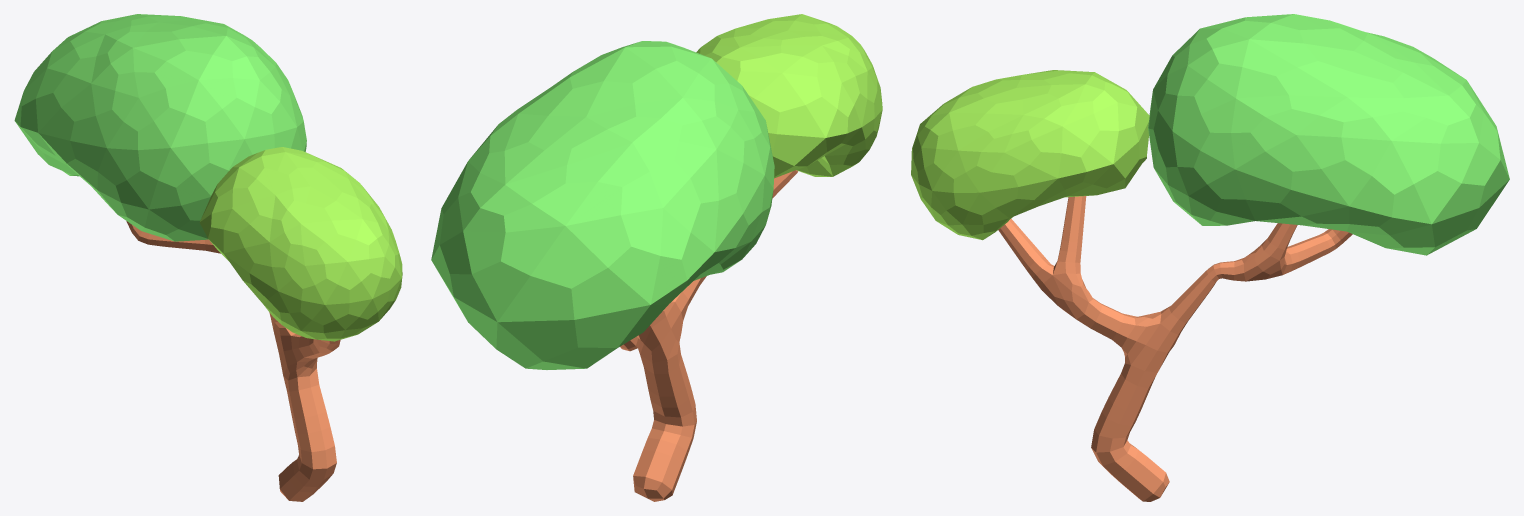
The model's file is tree10.gltf.
3 views of the same model, side by side, from view 1: azimuth 30°, elevation 25°; view 2: azimuth 150°, elevation 25°; view 3: azimuth 270°, elevation 25° (orthographic). The views are drawn at different scales.
Visible parts, largest first — view 1: Icosphere, Icosphere.001, Cube; view 2: Icosphere, Icosphere.001, Cube; view 3: Icosphere, Icosphere.001, Cube.
Boxes of the visible parts, left/top/right/bottom form: Icosphere: left=14, top=14, right=306, bottom=241; Icosphere.001: left=199, top=147, right=402, bottom=341; Cube: left=126, top=221, right=340, bottom=501; Icosphere: left=431, top=41, right=774, bottom=369; Icosphere.001: left=696, top=14, right=882, bottom=178; Cube: left=620, top=170, right=797, bottom=501; Icosphere: left=1148, top=14, right=1509, bottom=255; Icosphere.001: left=911, top=70, right=1149, bottom=240; Cube: left=998, top=196, right=1352, bottom=501.
Bounding box in the file's own units: 3.4 × 6.34 × 7.64.
